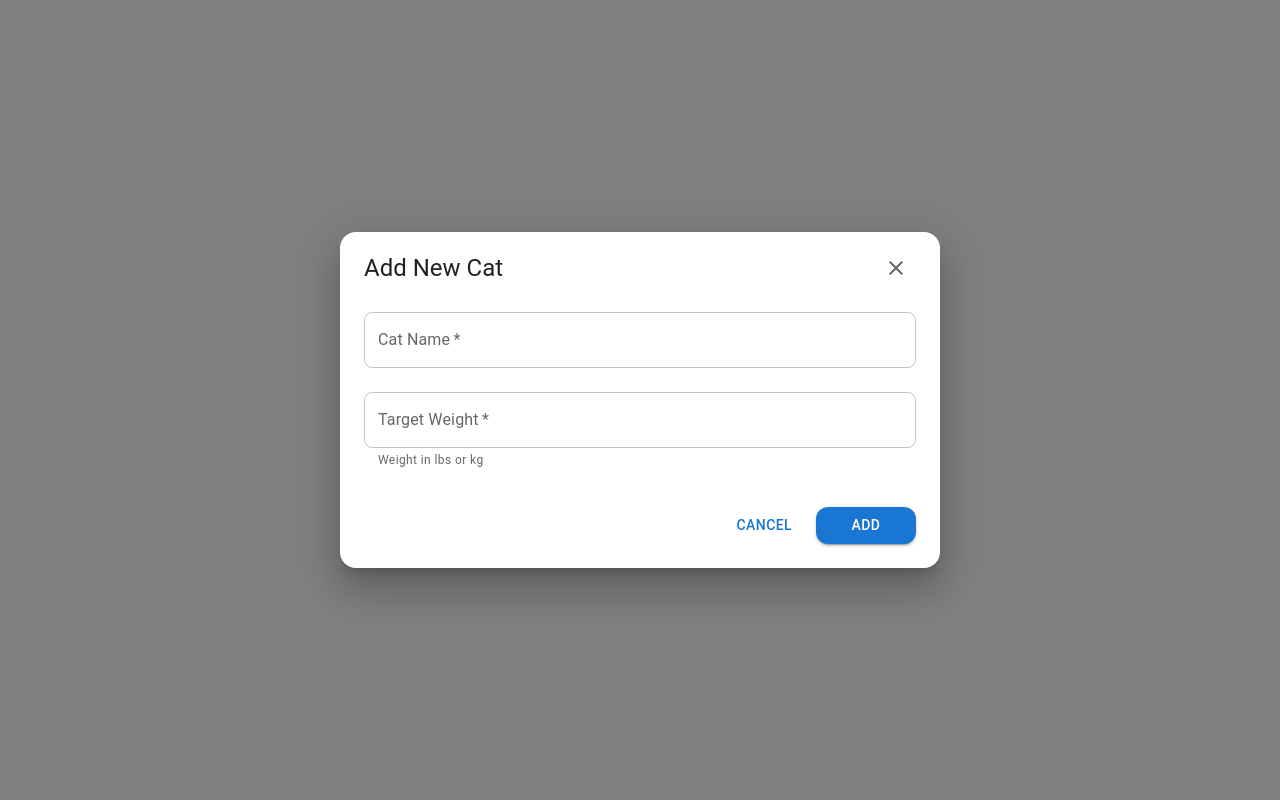
Scenario: CatForm › validates target weight is a positive number
In the field labelled "Cat Name *": (640,340) [364,312,916,368], type "Test Cat"
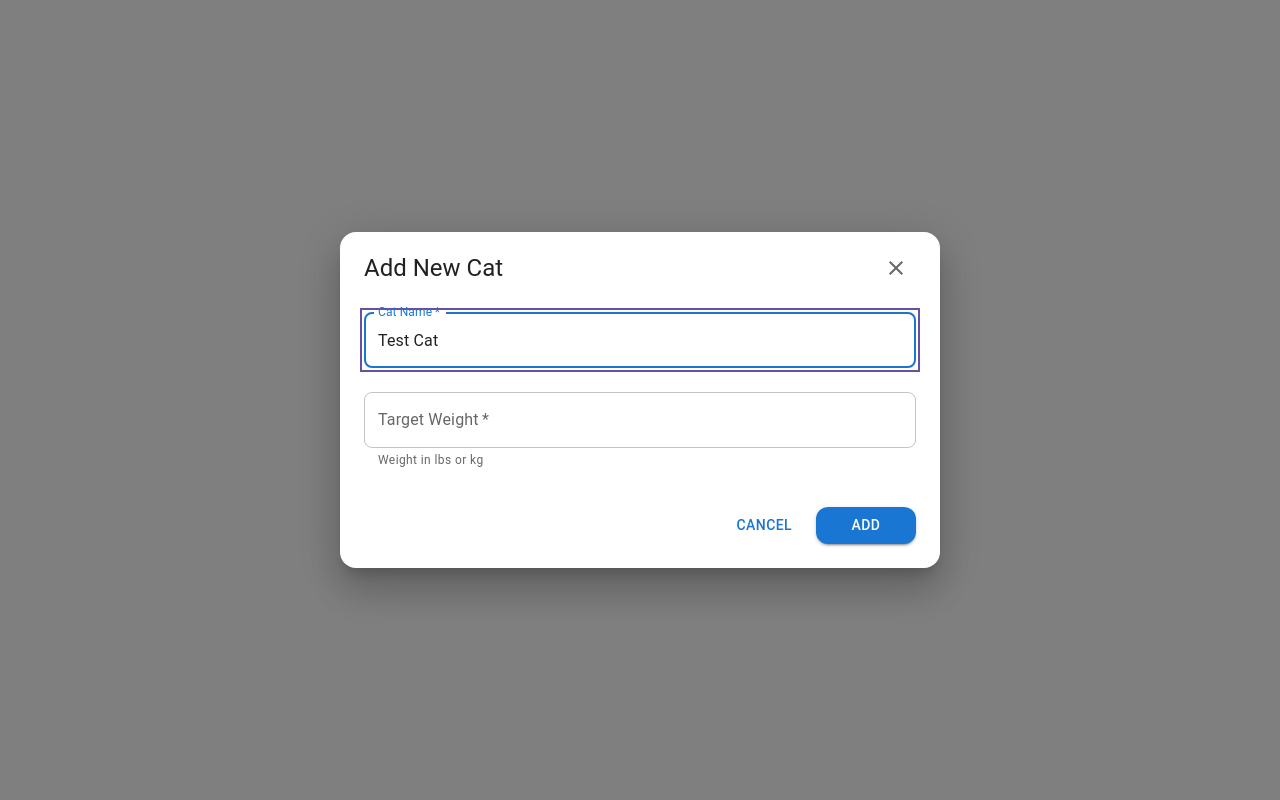
In the number field labelled "Target Weight *": (640,420) [364,392,916,448], type "-5"
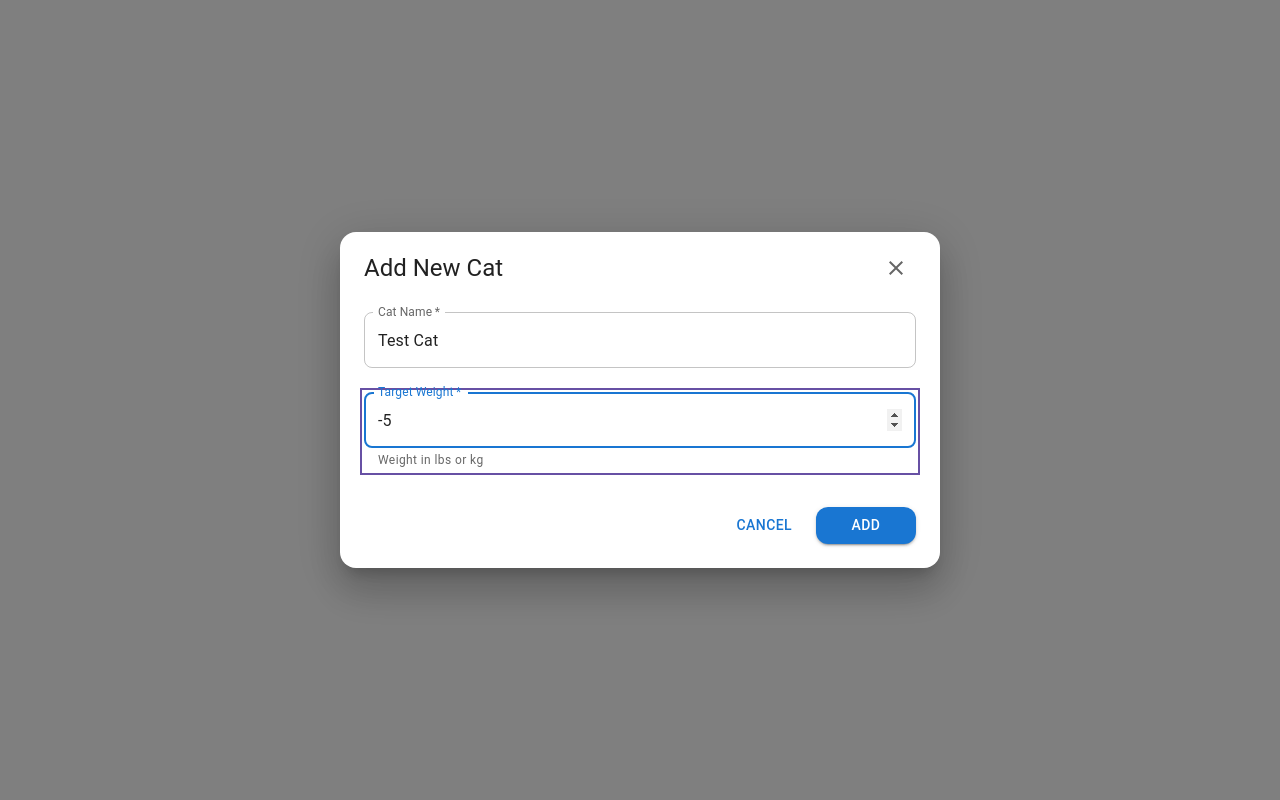
Click the button "Add": (866,525) [816,507,916,544]
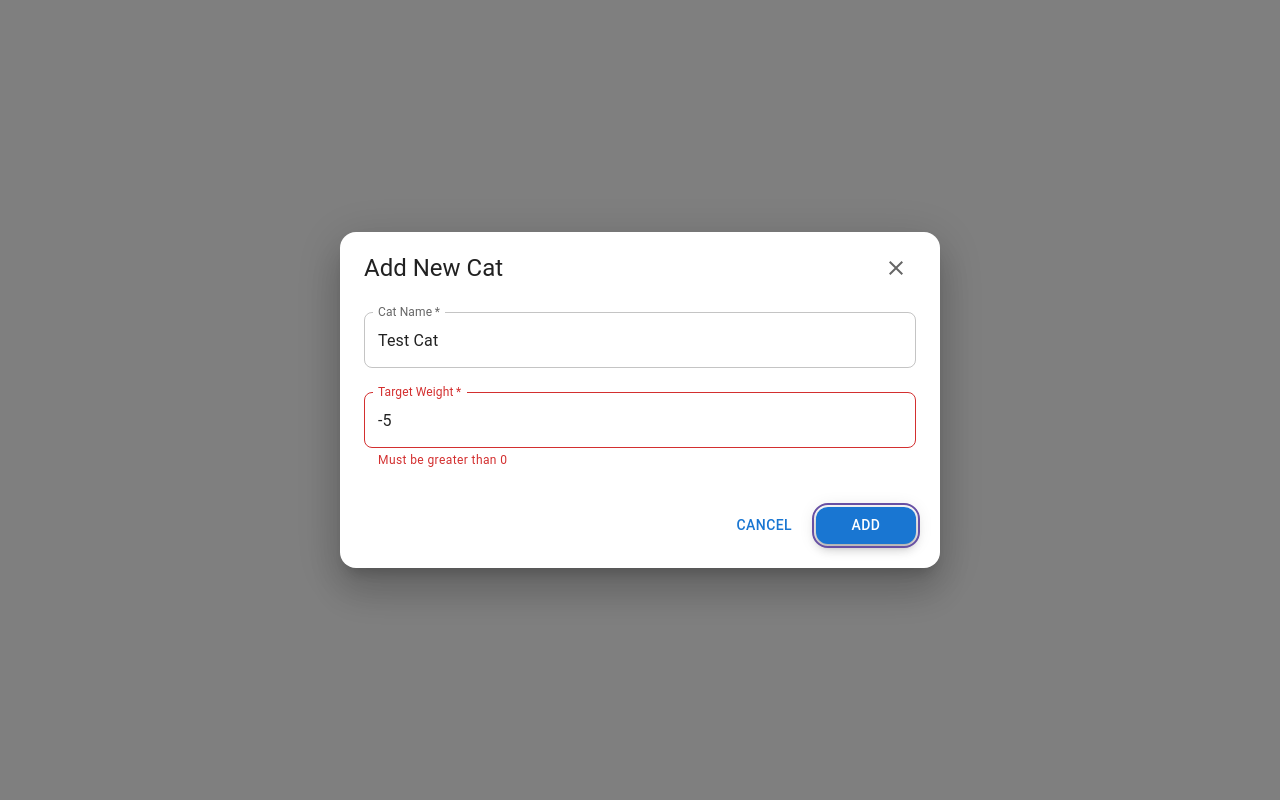
Now the text "Must be greater than 0" is shown, box [378,453,507,467]
